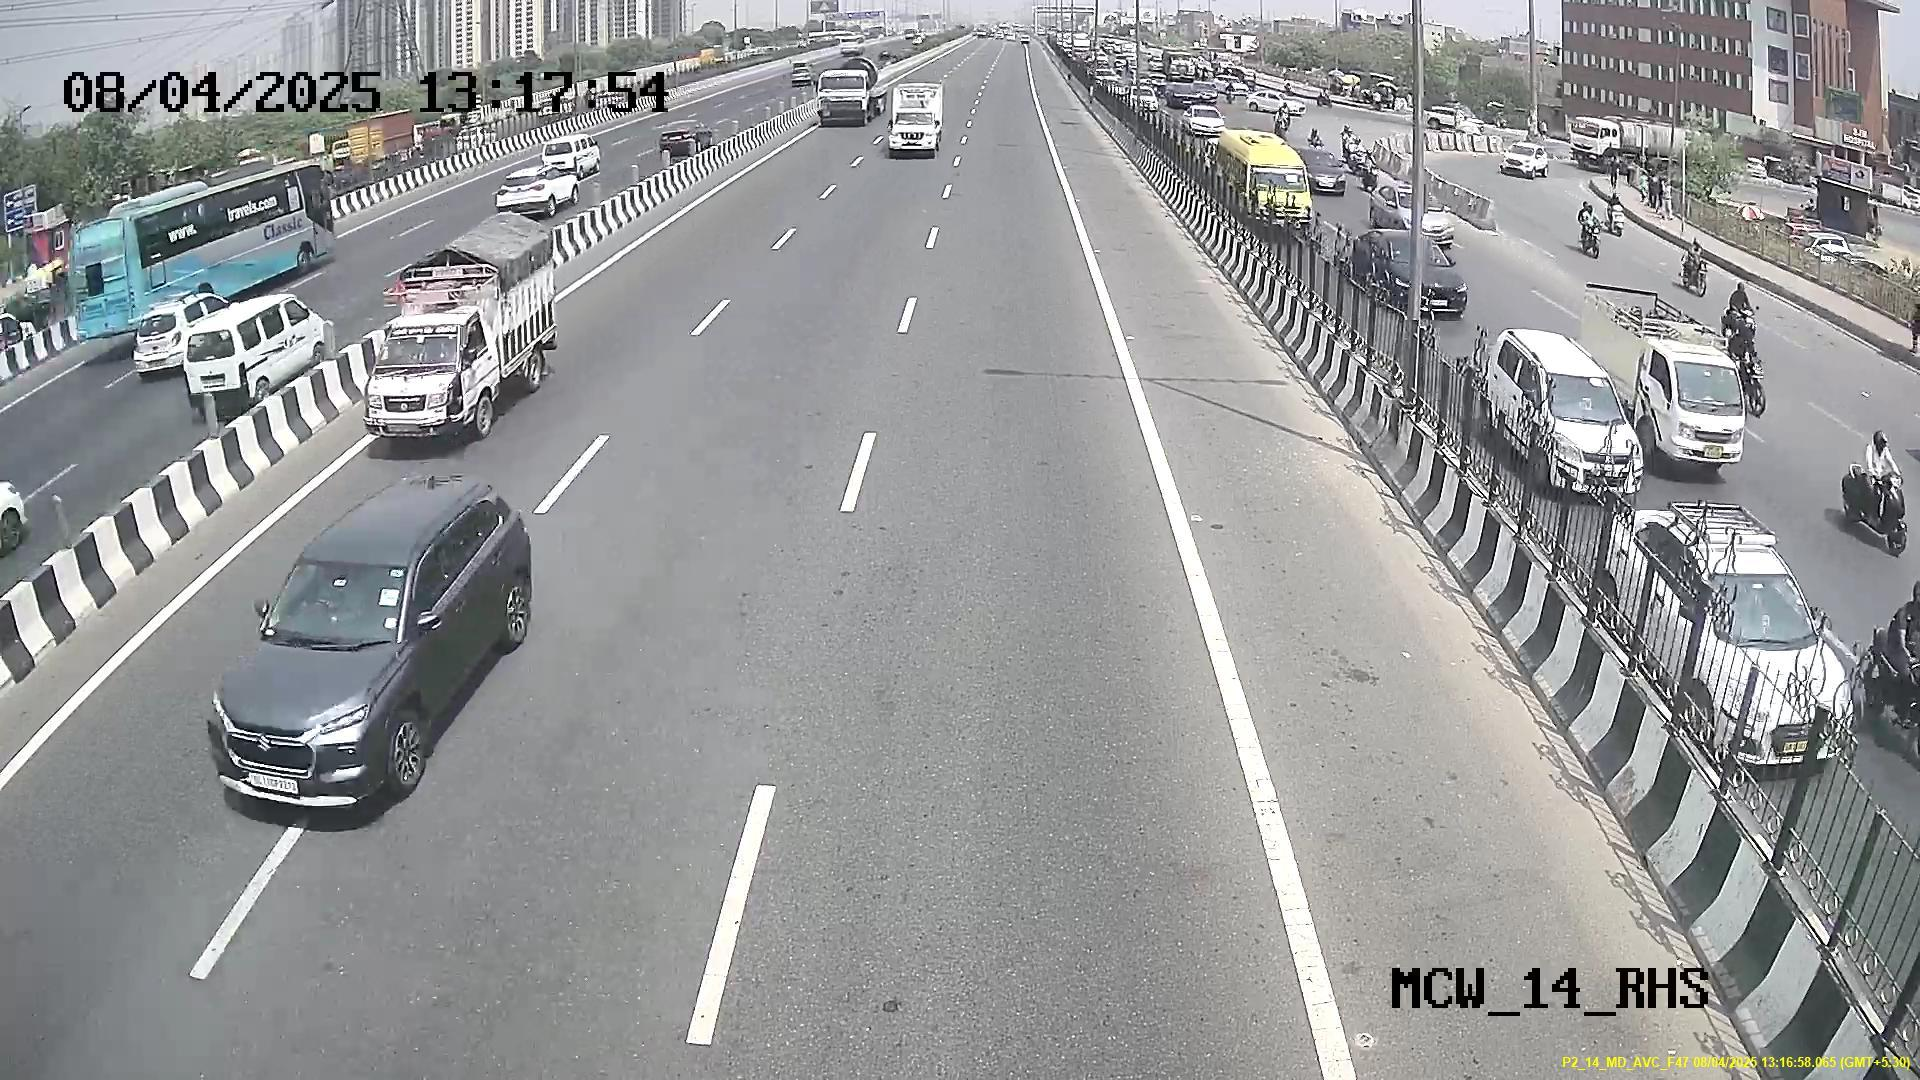car: (193, 526, 476, 822), (364, 302, 502, 447)
